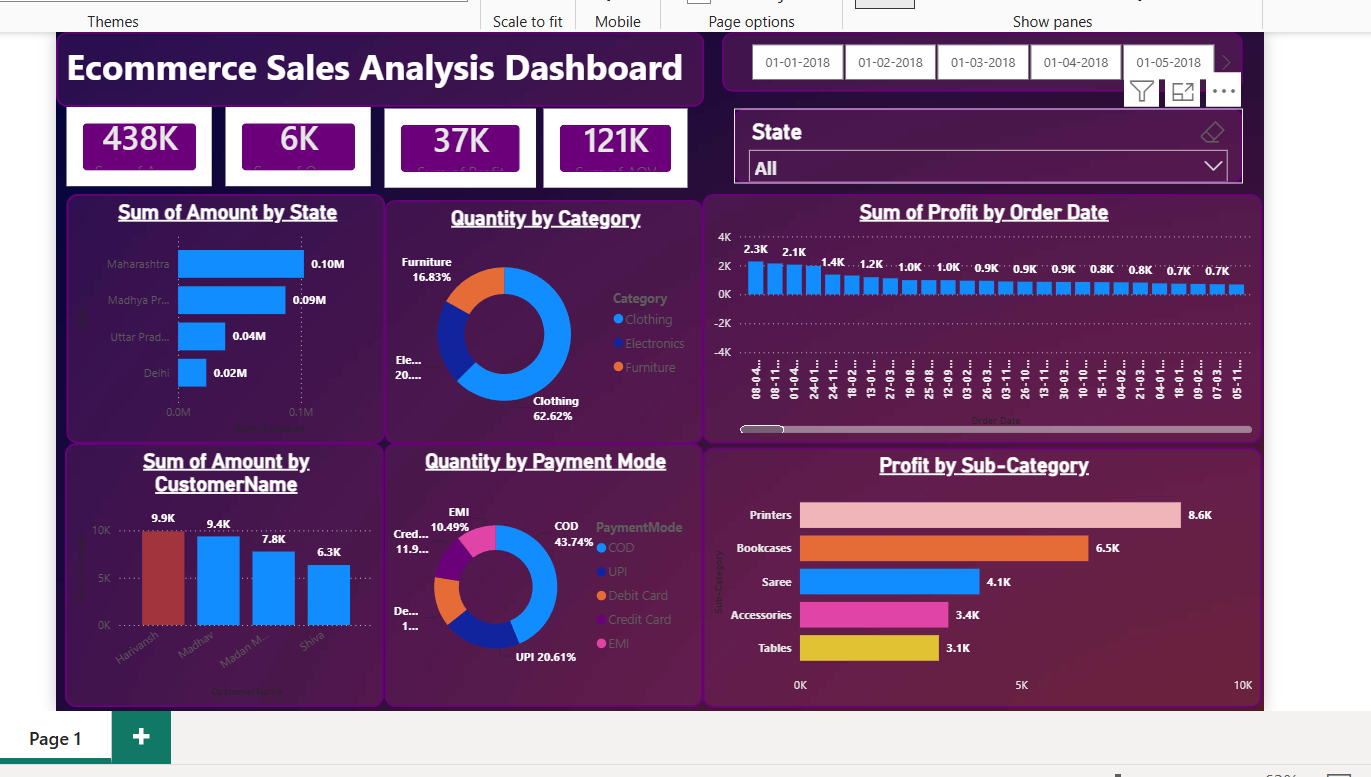

The dashboard page shown, as its layout file describes it:
{"tool":"powerbi","page":{"name":"Page 1","canvas":[1280,720],"ordinal":0},"visuals":[{"type":"textbox","box":[0,0,687.1,79.5],"z":0},{"type":"columnChart","fields":{"Y":["Sum(Details (1).Profit)"],"Category":["Orders (1).Order Date Hierarchy.Order Date"]},"box":[686,172,593.4,264.6],"z":1000},{"type":"barChart","title":"Profit by Sub-Category","fields":{"Y":["Sum(Details (1).Profit)"],"Category":["Details (1).Sub-Category"]},"box":[686,440.3,593.4,275.9],"z":2000},{"type":"donutChart","title":" Quantity by Category","fields":{"Y":["Sum(Details (1).Quantity)"],"Category":["Details (1).Category"]},"box":[347.7,177.6,338.3,258.9],"z":3000},{"type":"donutChart","title":" Quantity by Payment Mode","fields":{"Y":["Sum(Details (1).Quantity)"],"Category":["Details (1).PaymentMode"]},"box":[347.7,436.5,338.3,279.7],"z":4000},{"type":"barChart","fields":{"Category":["Orders (1).State"],"Y":["Sum(Details (1).Amount)"]},"box":[11.3,172,338.3,264.6],"z":5000},{"type":"columnChart","fields":{"Category":["Orders (1).CustomerName"],"Y":["Sum(Details (1).Amount)"]},"box":[9.4,436.5,338.3,279.7],"z":6000},{"type":"cardVisual","fields":{"Data":["Sum(Details (1).Quantity)"]},"box":[179.7,79.5,154.3,84.3],"z":7000},{"type":"cardVisual","fields":{"Data":["Sum(Details (1).Profit)"]},"box":[348.3,81.1,160.7,84.3],"z":8000},{"type":"cardVisual","fields":{"Data":["Sum(Details (1).AOV)"]},"box":[516.9,81.1,152.7,84.3],"z":9000},{"type":"cardVisual","fields":{"Data":["Sum(Details (1).Amount)"]},"box":[11.1,79.5,154.3,84.3],"z":10000},{"type":"slicer","fields":{"Values":["Orders (1).Order Date"]},"box":[706.2,0,551.9,63.6],"z":10001},{"type":"slicer","fields":{"Values":["Orders (1).State"]},"box":[719,81.1,539.2,79.5],"z":10002}]}

Visuals, with their boxes on the page's 1280x720 design canvas (x1, y1, x2, y2). These are canvas units, not pixel positions in the 1371x777 screenshot, which may show the page scaled, cropped or inside an application window:
textbox: box(0, 0, 687, 80)
columnChart - Sum(Details (1).Profit) x Orders (1).Order Date Hierarchy.Order Date: box(686, 172, 1279, 437)
"Profit by Sub-Category" barChart: box(686, 440, 1279, 716)
" Quantity by Category" donutChart: box(348, 178, 686, 436)
" Quantity by Payment Mode" donutChart: box(348, 436, 686, 716)
barChart - Orders (1).State x Sum(Details (1).Amount): box(11, 172, 350, 437)
columnChart - Orders (1).CustomerName x Sum(Details (1).Amount): box(9, 436, 348, 716)
cardVisual - Sum(Details (1).Quantity): box(180, 80, 334, 164)
cardVisual - Sum(Details (1).Profit): box(348, 81, 509, 165)
cardVisual - Sum(Details (1).AOV): box(517, 81, 670, 165)
cardVisual - Sum(Details (1).Amount): box(11, 80, 165, 164)
slicer - Orders (1).Order Date: box(706, 0, 1258, 64)
slicer - Orders (1).State: box(719, 81, 1258, 161)
